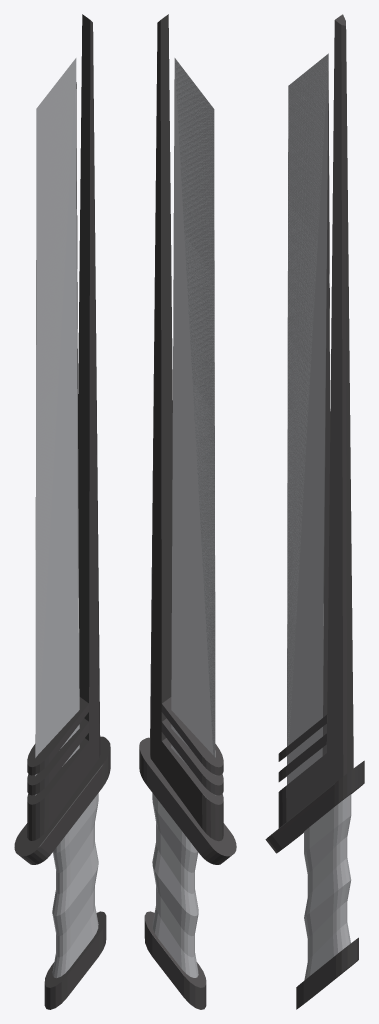
The model's file is Sword.fbx.
The picture shows the model from 3 angles, left to right: view 1: azimuth 30°, elevation 25°; view 2: azimuth 150°, elevation 25°; view 3: azimuth 330°, elevation 25°; orthographic projection.
Visible parts, largest first — view 1: Cube; view 2: Cube; view 3: Cube.
Part boxes in pixels (box(x1,y1,x2,y2)): Cube: box(14, 14, 110, 1009); Cube: box(139, 14, 236, 1009); Cube: box(265, 14, 364, 1009).
Size of the model in its own units: 85.87 by 904 by 32.72.
